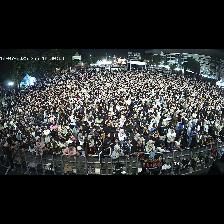person: (99, 144, 112, 169), (85, 142, 97, 157), (145, 131, 155, 148), (63, 144, 76, 157), (132, 140, 144, 154), (167, 129, 175, 150), (188, 126, 196, 146), (112, 146, 124, 159), (178, 118, 187, 135), (50, 143, 62, 155), (155, 140, 167, 152), (146, 140, 156, 154), (160, 122, 167, 141), (151, 123, 159, 139), (94, 135, 103, 149), (118, 129, 125, 146), (130, 120, 139, 133), (122, 143, 130, 157), (55, 131, 66, 141), (132, 134, 142, 145), (190, 136, 199, 148), (19, 140, 28, 152), (59, 139, 68, 151), (104, 133, 113, 145), (36, 137, 45, 148), (125, 137, 132, 151), (112, 138, 121, 148), (197, 129, 203, 144), (72, 137, 80, 148), (130, 129, 137, 141), (181, 136, 188, 148), (175, 137, 182, 149), (204, 135, 212, 145), (104, 122, 112, 132), (20, 134, 28, 143), (50, 138, 59, 146), (0, 138, 8, 147), (78, 133, 84, 145), (60, 125, 67, 135), (44, 142, 51, 152), (88, 135, 94, 146), (51, 120, 57, 131), (36, 147, 43, 156), (45, 133, 52, 142), (77, 146, 84, 155), (15, 141, 20, 153), (187, 124, 192, 136), (212, 136, 219, 144), (44, 126, 50, 135), (140, 168, 149, 174), (68, 135, 73, 143), (41, 133, 45, 142)
